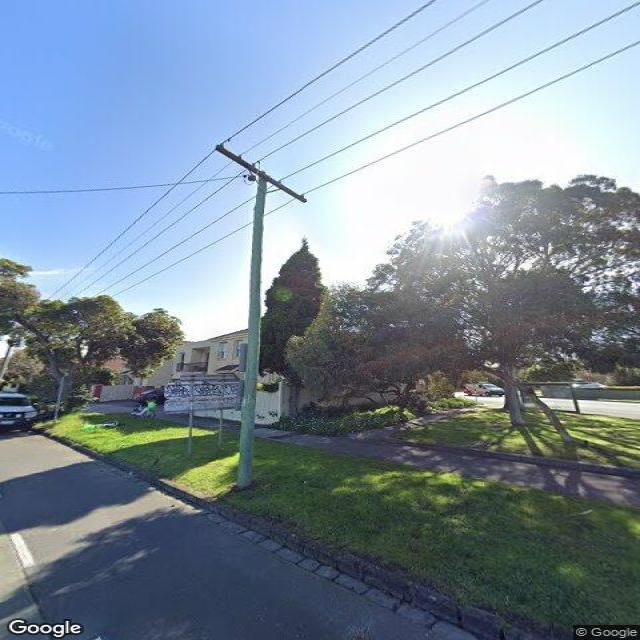crossarm: (214, 145, 308, 202)
timber-pole: (234, 175, 272, 486)
